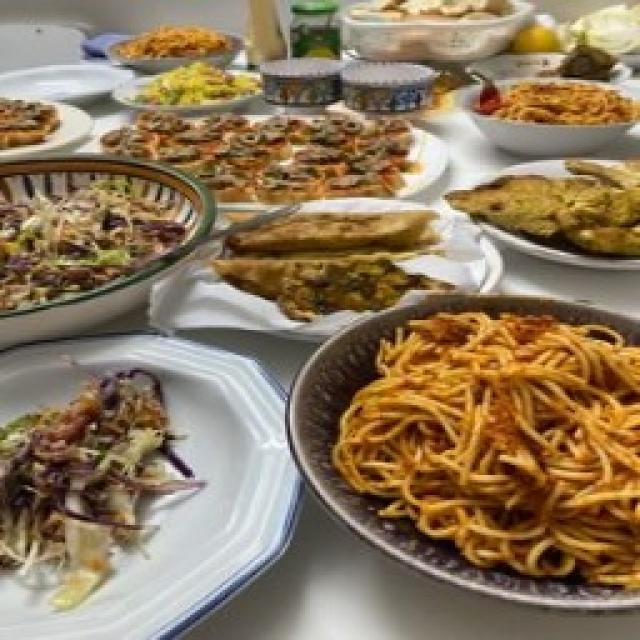Pasta: (328, 312, 640, 600)
